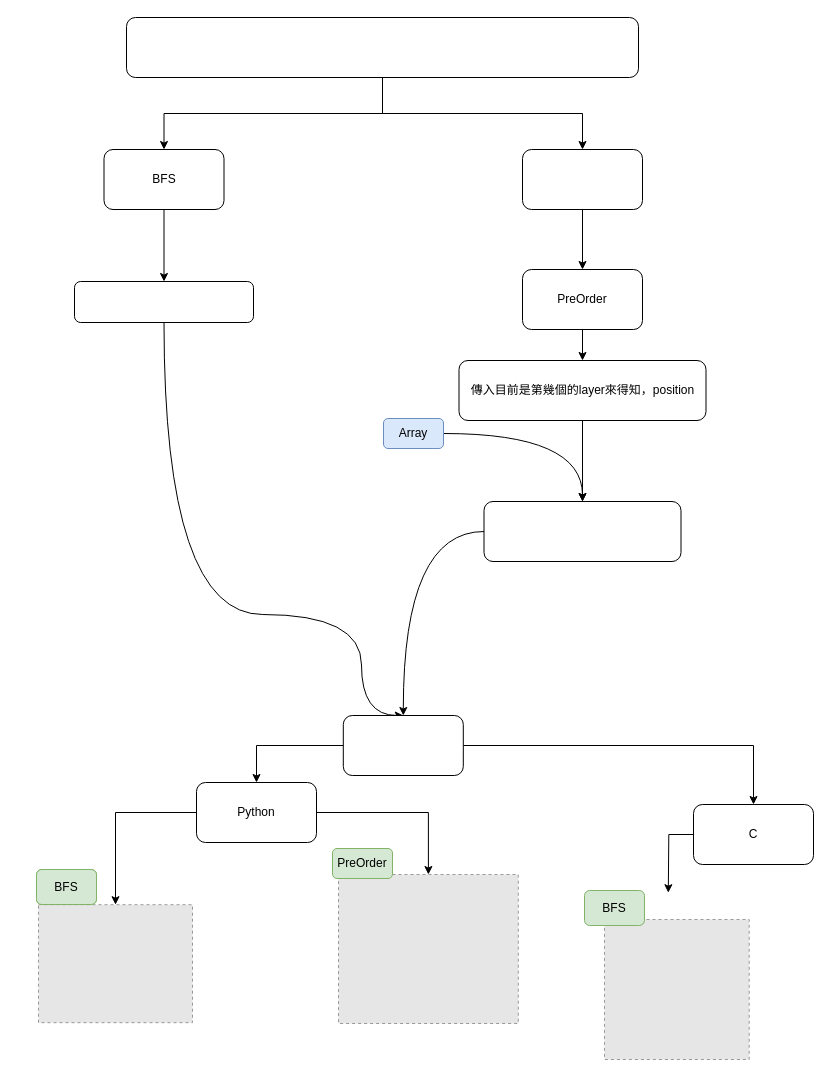
This 831x1077 diagram has some shape labels left out. Grey dashed boxes stand in for pictures. The box of each missing label's shape, as (x1, y1, x2, y2) in pixels:
Binary Tree Traversal: (522, 148, 642, 210)
在利用Array加上Position的資訊，來記錄每Level的node數。: (483, 500, 681, 562)
效能比較: (342, 714, 463, 776)
用queue紀錄，每一層的node，回傳最左邊的node的Values: (74, 280, 254, 322)
題目: 給一個Binary Tree的root，回傳 由上到下Level nodes的list放在list中。: (126, 16, 638, 78)
